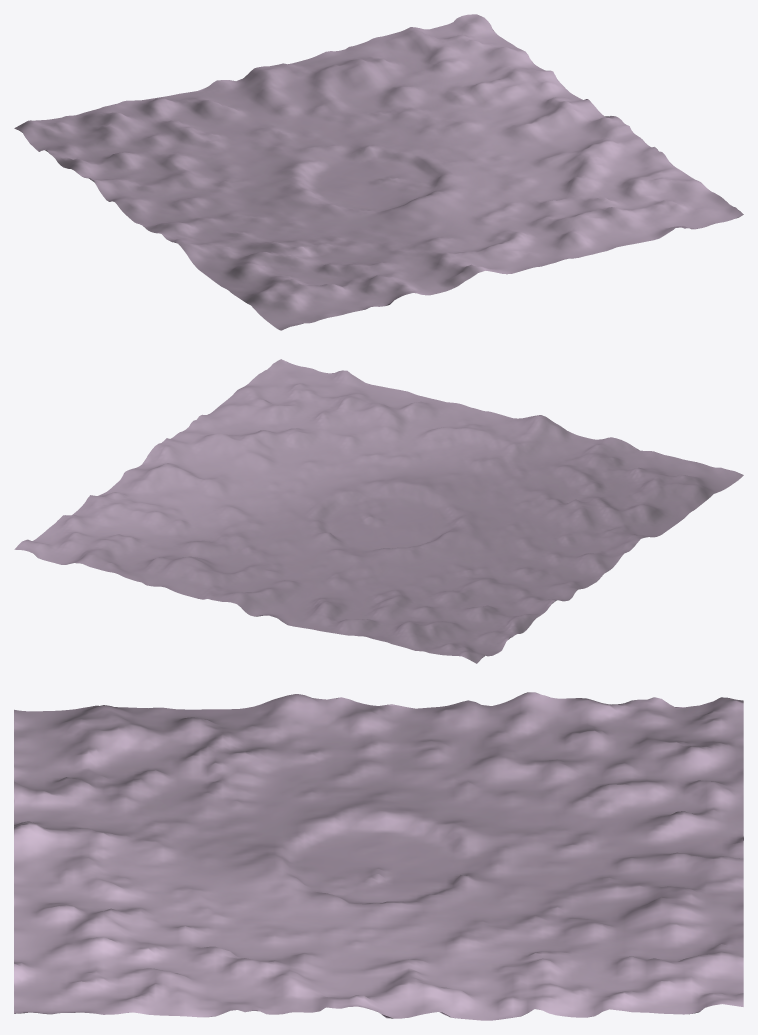
The model's file is land.fbx.
3 views of the same model, one above another, from view 1: azimuth 30°, elevation 25°; view 2: azimuth 150°, elevation 25°; view 3: azimuth 270°, elevation 25° (orthographic). The views are drawn at different scales.
Visible parts, largest first — view 1: Land_GEO; view 2: Land_GEO; view 3: Land_GEO.
Part boxes in pixels (left/top/right/bottom): Land_GEO: left=14, top=14, right=743, bottom=330; Land_GEO: left=14, top=359, right=743, bottom=663; Land_GEO: left=14, top=692, right=743, bottom=1020.
Bounding box in the file's own units: 500 × 22.01 × 500.
1 material, 1 textured.
